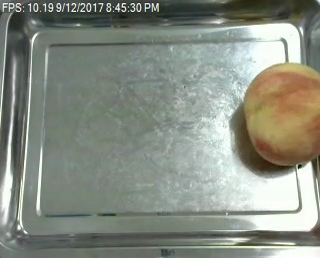Peach: (242, 61, 319, 167)
